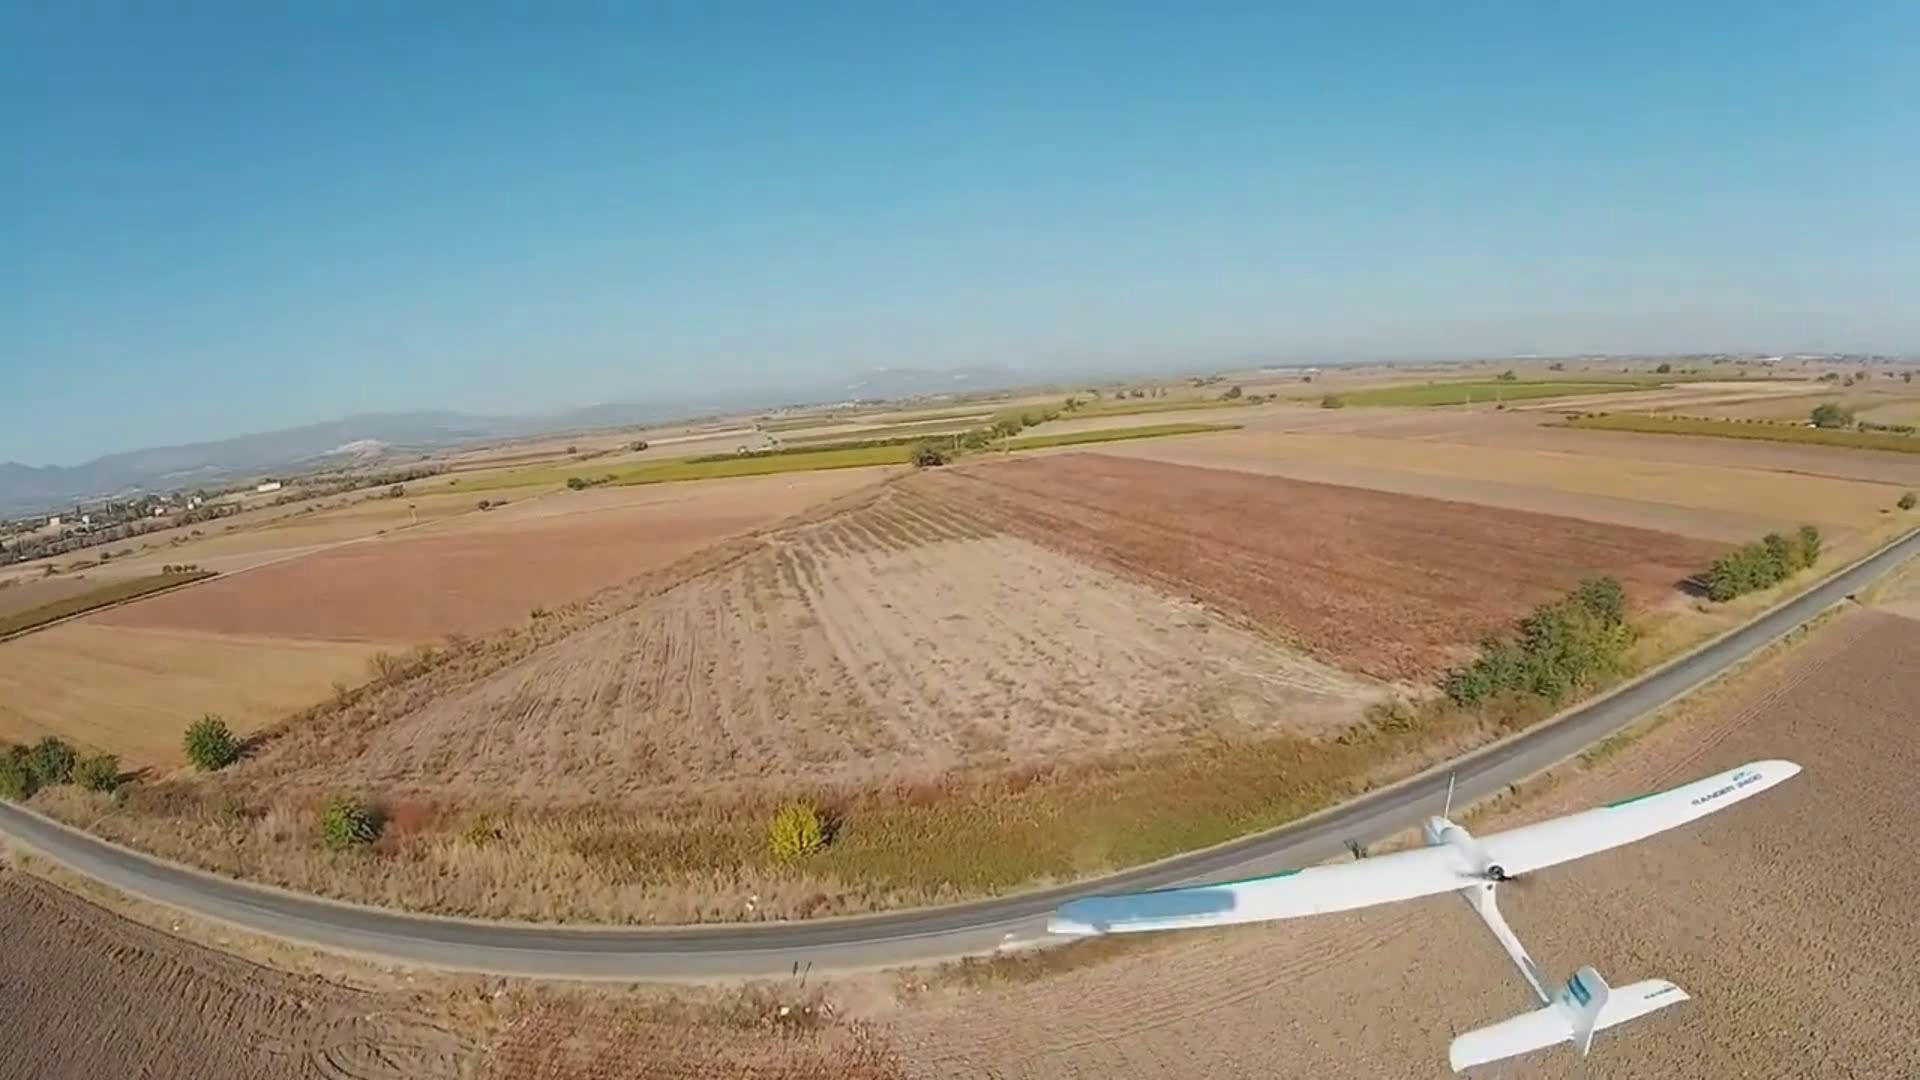airplane: (76, 509, 1907, 1071)
